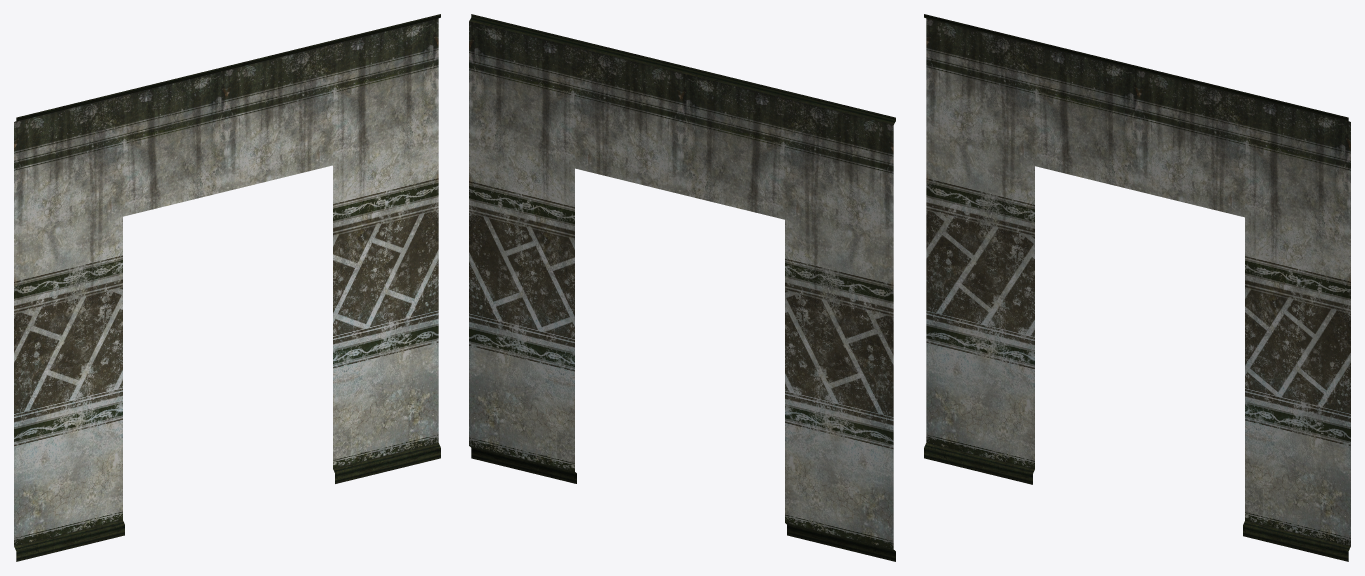
Rendered from waitingroom_damaged_flat_doorway.dae.
3 views of the same model, side by side, from view 1: azimuth 30°, elevation 25°; view 2: azimuth 150°, elevation 25°; view 3: azimuth 330°, elevation 25° (orthographic).
Visible parts, largest first — view 1: pPlane7; view 2: pPlane7; view 3: pPlane7.
Part boxes in pixels (x1,y1,x2,y2): pPlane7: (14,14,440,561); pPlane7: (469,14,895,561); pPlane7: (924,14,1350,561).
Size of the model in its own units: 4 by 4 by 0.0341.
